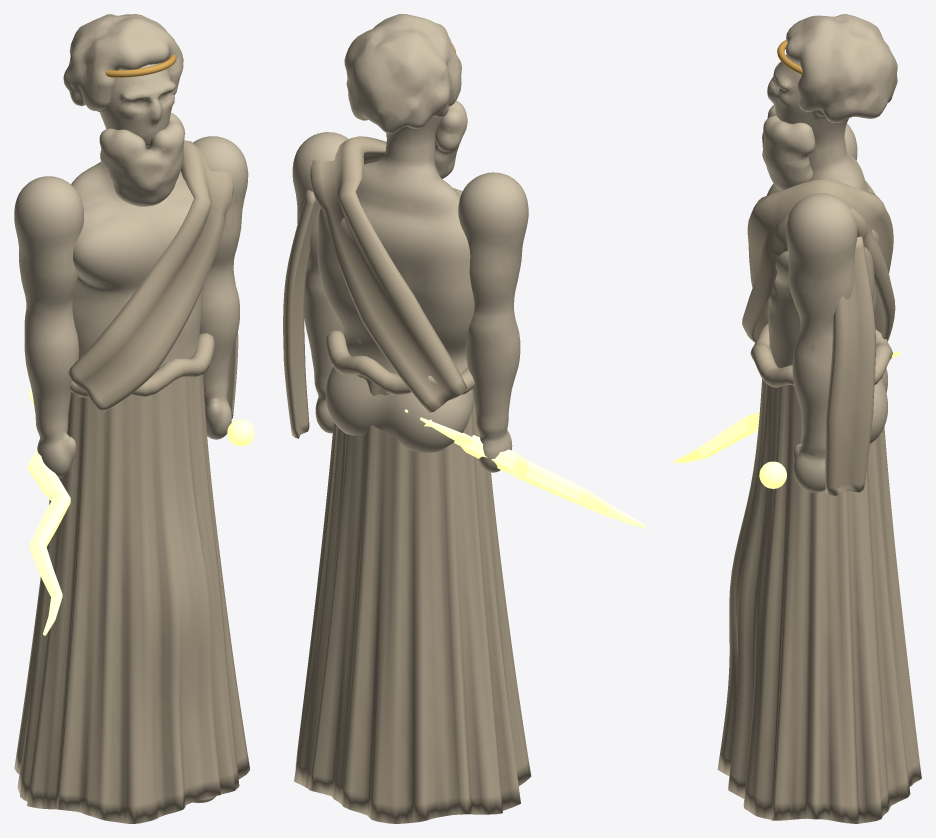
Rendered from zeus.glb.
The picture shows the model from 3 angles, left to right: view 1: azimuth 30°, elevation 25°; view 2: azimuth 150°, elevation 25°; view 3: azimuth 270°, elevation 25°; orthographic projection.
Parts seen in each view (by area): view 1: Himation_7@robe~2, Body_1@body, Drape_9@chest~3, ArmR_3@armR, ArmL_2@armL, Hair_4@Head, Beard_5@Head, Tool_11@RightHand, Roll_8@Hips, Orb_14@LeftHand, Fillet_6@Head, Fall_10@Spine2+LeftShoulder+LeftArm~2; view 2: Himation_7@robe~2, Body_1@body, Drape_9@chest~3, ArmR_3@armR, Hair_4@Head, ArmL_2@armL, Fall_10@Spine2+LeftShoulder+LeftArm~2, Tool_11@RightHand, Roll_8@Hips, Beard_5@Head; view 3: Himation_7@robe~2, ArmL_2@armL, Hair_4@Head, Fall_10@Spine2+LeftShoulder+LeftArm~2, Drape_9@chest~3, Body_1@body, Beard_5@Head, Roll_8@Hips, Tool_11@RightHand, Orb_14@LeftHand.
Part boxes in pixels (left/top/right/bottom): Himation_7@robe~2: left=14, top=374, right=249, bottom=823; Body_1@body: left=71, top=62, right=215, bottom=817; Drape_9@chest~3: left=68, top=140, right=233, bottom=411; ArmR_3@armR: left=14, top=176, right=83, bottom=478; ArmL_2@armL: left=181, top=136, right=248, bottom=439; Hair_4@Head: left=63, top=14, right=183, bottom=110; Beard_5@Head: left=99, top=113, right=184, bottom=206; Tool_11@RightHand: left=27, top=450, right=70, bottom=635; Roll_8@Hips: left=70, top=333, right=214, bottom=397; Orb_14@LeftHand: left=227, top=419, right=254, bottom=446; Fillet_6@Head: left=105, top=55, right=176, bottom=77; Fall_10@Spine2+LeftShoulder+LeftArm~2: left=227, top=333, right=238, bottom=418; Himation_7@robe~2: left=294, top=375, right=531, bottom=823; Body_1@body: left=317, top=116, right=474, bottom=452; Drape_9@chest~3: left=310, top=136, right=467, bottom=412; ArmR_3@armR: left=458, top=172, right=528, bottom=472; Hair_4@Head: left=344, top=14, right=461, bottom=133; ArmL_2@armL: left=292, top=132, right=348, bottom=433; Fall_10@Spine2+LeftShoulder+LeftArm~2: left=283, top=190, right=316, bottom=438; Tool_11@RightHand: left=424, top=419, right=645, bottom=528; Roll_8@Hips: left=326, top=330, right=474, bottom=395; Beard_5@Head: left=386, top=100, right=467, bottom=178; Himation_7@robe~2: left=717, top=379, right=921, bottom=823; ArmL_2@armL: left=786, top=193, right=857, bottom=492; Hair_4@Head: left=786, top=14, right=897, bottom=122; Fall_10@Spine2+LeftShoulder+LeftArm~2: left=825, top=236, right=875, bottom=495; Drape_9@chest~3: left=742, top=179, right=895, bottom=342; Body_1@body: left=766, top=55, right=887, bottom=443; Beard_5@Head: left=762, top=104, right=815, bottom=190; Roll_8@Hips: left=750, top=323, right=892, bottom=387; Tool_11@RightHand: left=674, top=412, right=759, bottom=463; Orb_14@LeftHand: left=759, top=461, right=786, bottom=488.
Size of the model in its own units: 0.6835 by 1.83 by 0.5349.
